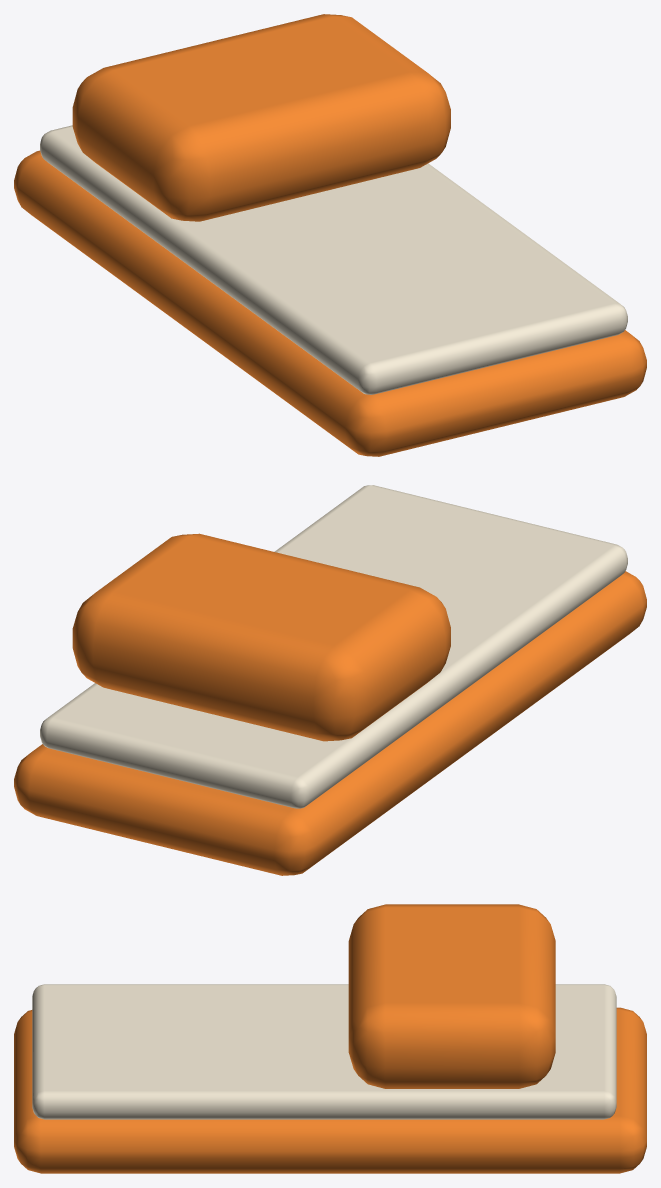
Rendered from slipper.glb.
3 views of the same model, one above another, from view 1: azimuth 30°, elevation 25°; view 2: azimuth 150°, elevation 25°; view 3: azimuth 270°, elevation 25° (orthographic). The views are drawn at different scales.
Visible parts, largest first — view 1: slipper_toy_sole, footbed; view 2: slipper_toy_sole, footbed; view 3: slipper_toy_sole, footbed.
Boxes of the visible parts, x1,y1,x2,y2 form: slipper_toy_sole: [14, 14, 646, 456]; footbed: [40, 125, 627, 394]; slipper_toy_sole: [14, 533, 646, 875]; footbed: [40, 485, 627, 808]; slipper_toy_sole: [14, 904, 646, 1173]; footbed: [32, 984, 616, 1119].
Size of the model in its own units: 0.195 by 0.1151 by 0.4056.
